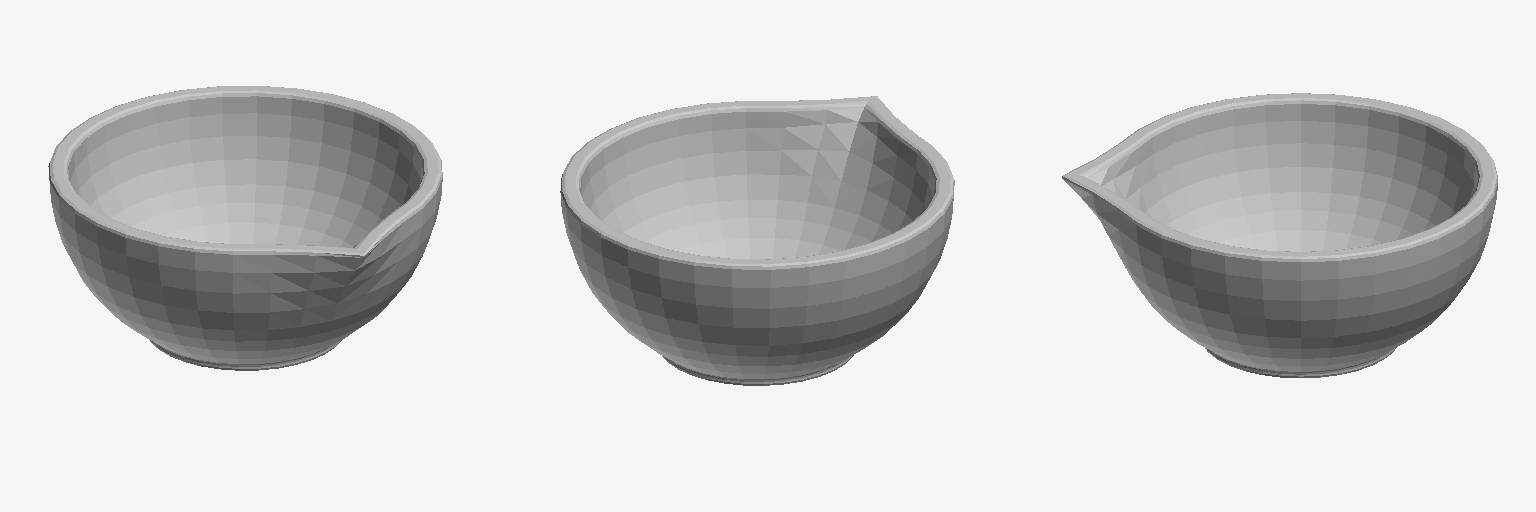
The model's file is bowl.obj.
The picture shows the model from 3 angles: view 1: azimuth 30°, elevation 25°; view 2: azimuth 150°, elevation 25°; view 3: azimuth 270°, elevation 25°; orthographic projection.
Visible parts, largest first — view 1: Circle.003; view 2: Circle.003; view 3: Circle.003.
Part boxes in pixels (x1,y1,x2,y2): Circle.003: (48,86,442,370); Circle.003: (560,96,954,385); Circle.003: (1062,93,1497,377).
Size of the model in its own units: 0.1798 by 0.0813 by 0.1986.